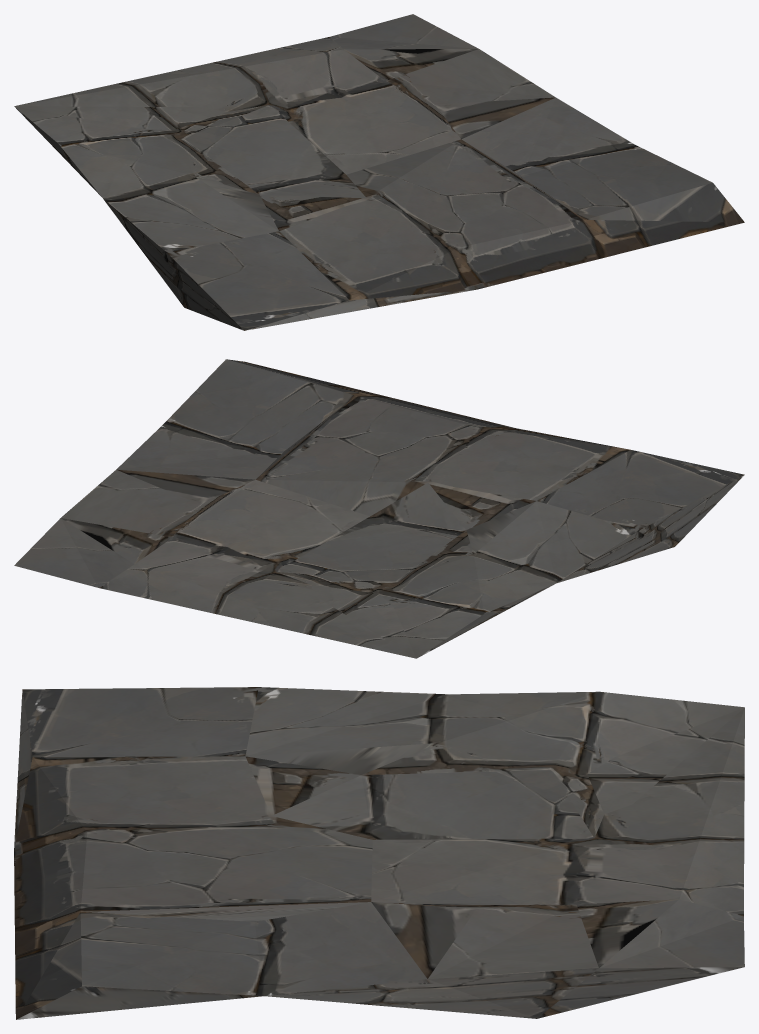
File: SM_Dungeon_Floor_A_LOD3.fbx
3 views of the same model, one above another, from view 1: azimuth 30°, elevation 25°; view 2: azimuth 150°, elevation 25°; view 3: azimuth 270°, elevation 25° (orthographic). The views are drawn at different scales.
Visible parts, largest first — view 1: SM_Dungeon_Floor_A_LOD3; view 2: SM_Dungeon_Floor_A_LOD3; view 3: SM_Dungeon_Floor_A_LOD3.
Part boxes in pixels (bbox=[...]): SM_Dungeon_Floor_A_LOD3: bbox=[14, 14, 744, 330]; SM_Dungeon_Floor_A_LOD3: bbox=[14, 359, 744, 658]; SM_Dungeon_Floor_A_LOD3: bbox=[14, 687, 744, 1019].
Bounding box in the file's own units: 3.96 × 0.3123 × 3.87.
